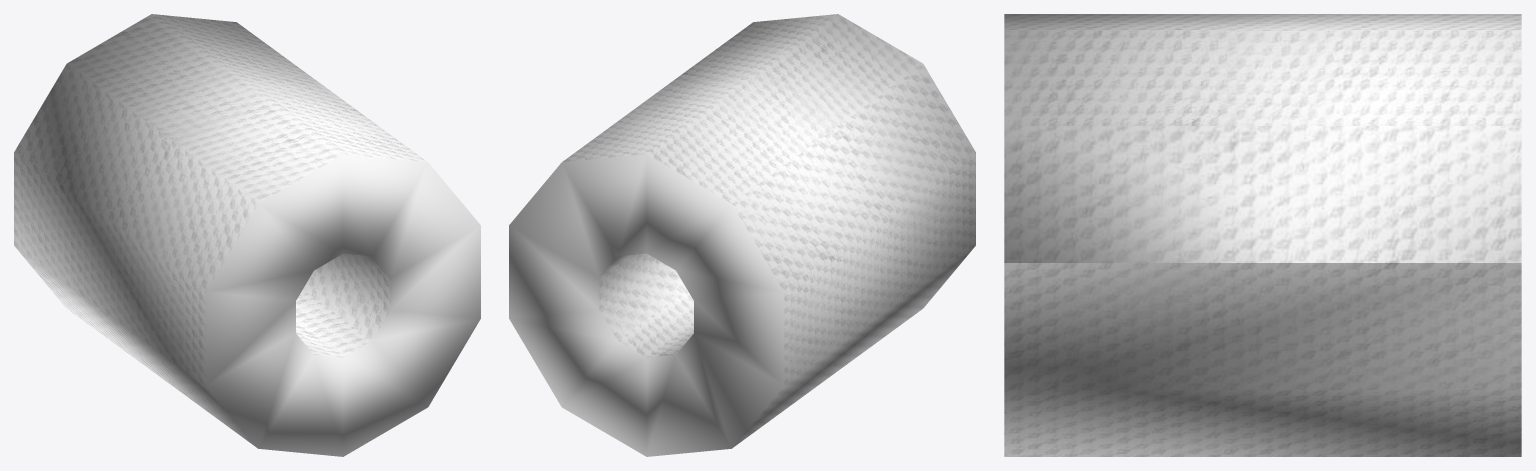
File: Toilet Paper.glb
3 renders of one model, left to right at view 1: azimuth 30°, elevation 25°; view 2: azimuth 150°, elevation 25°; view 3: azimuth 270°, elevation 25°, orthographic. The views are drawn at different scales.
Parts seen in each view (by area): view 1: Toilet Paper; view 2: Toilet Paper; view 3: Toilet Paper.
Part boxes in pixels (bbox=[...]): Toilet Paper: bbox=[14, 14, 480, 456]; Toilet Paper: bbox=[509, 14, 975, 456]; Toilet Paper: bbox=[1004, 14, 1521, 456].
Bounding box in the file's own units: 0.1903 × 0.2 × 0.2294.
1 material, 1 textured.
